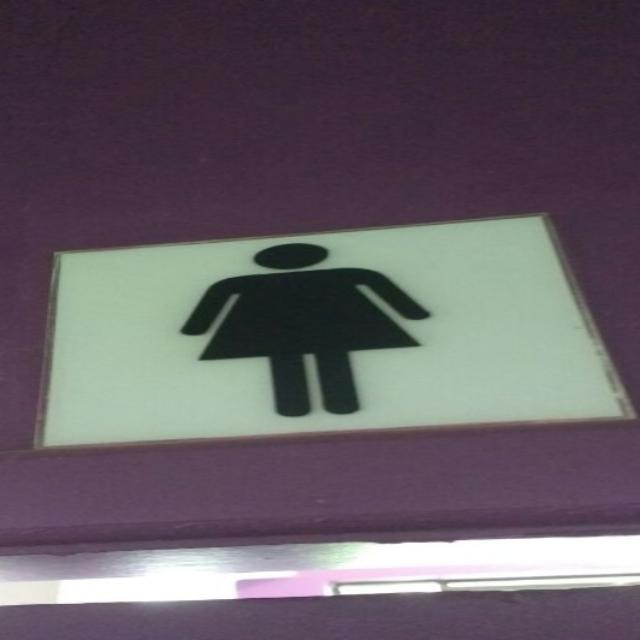wc nu: (41, 215, 630, 446)
